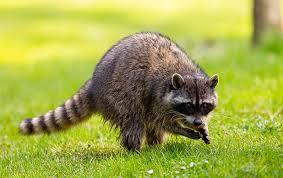raccoon: (12, 23, 231, 160)
